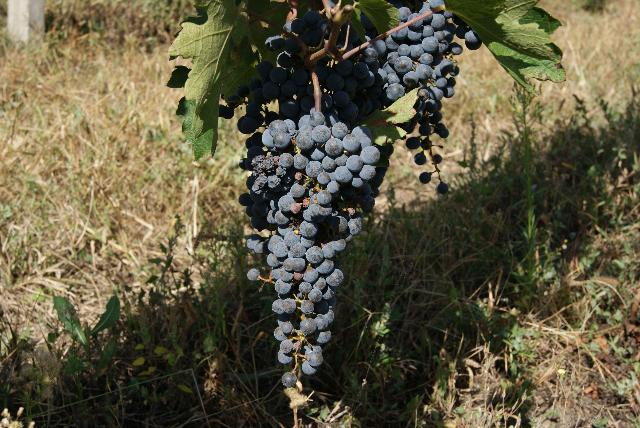grapes: (239, 120, 384, 388), (365, 0, 479, 172)
